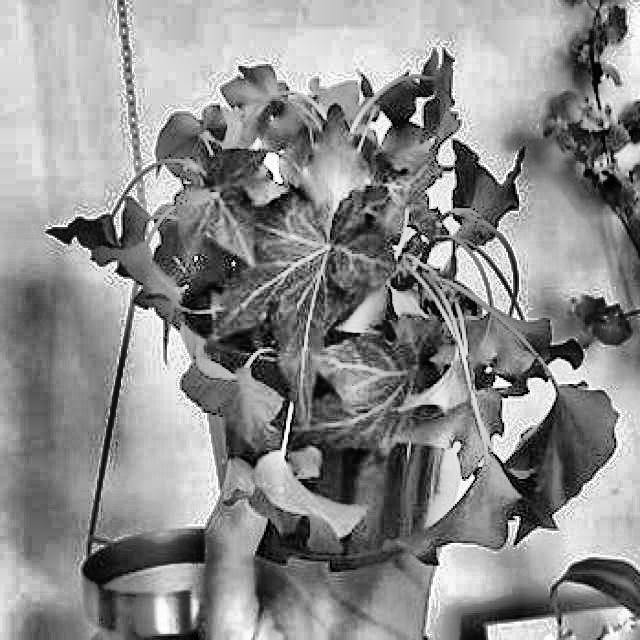plants: (57, 64, 608, 550)
